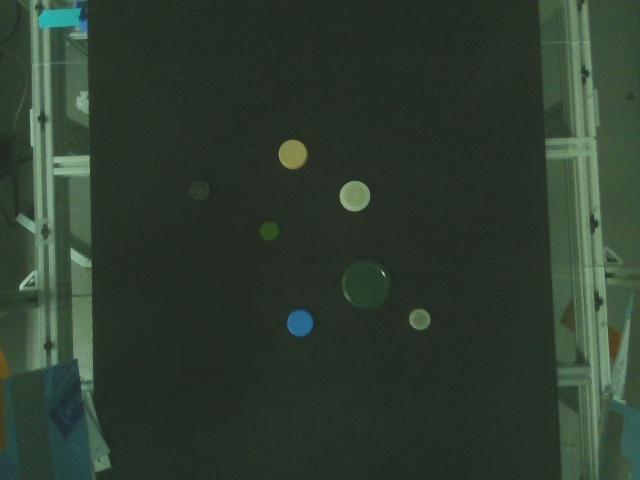metal: (340, 256, 394, 312)
plastic: (338, 178, 373, 214), (277, 137, 311, 172), (283, 306, 316, 340), (187, 178, 212, 205), (407, 307, 433, 332), (258, 218, 282, 244)
